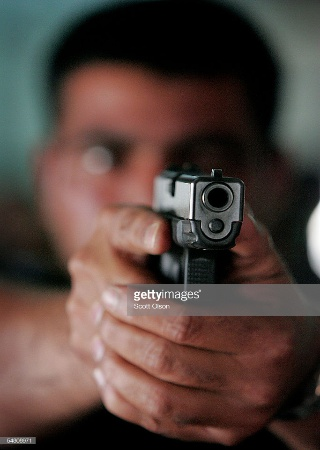handgun: (152, 162, 249, 301)
